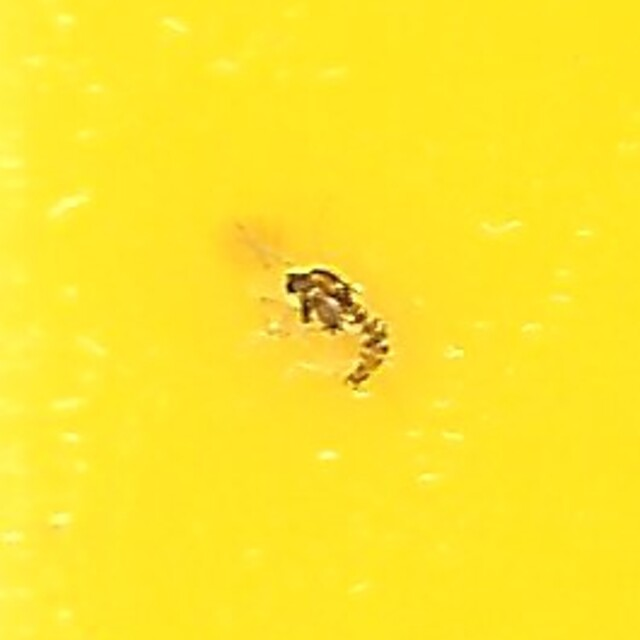Nematocera: (242, 238, 398, 402)
